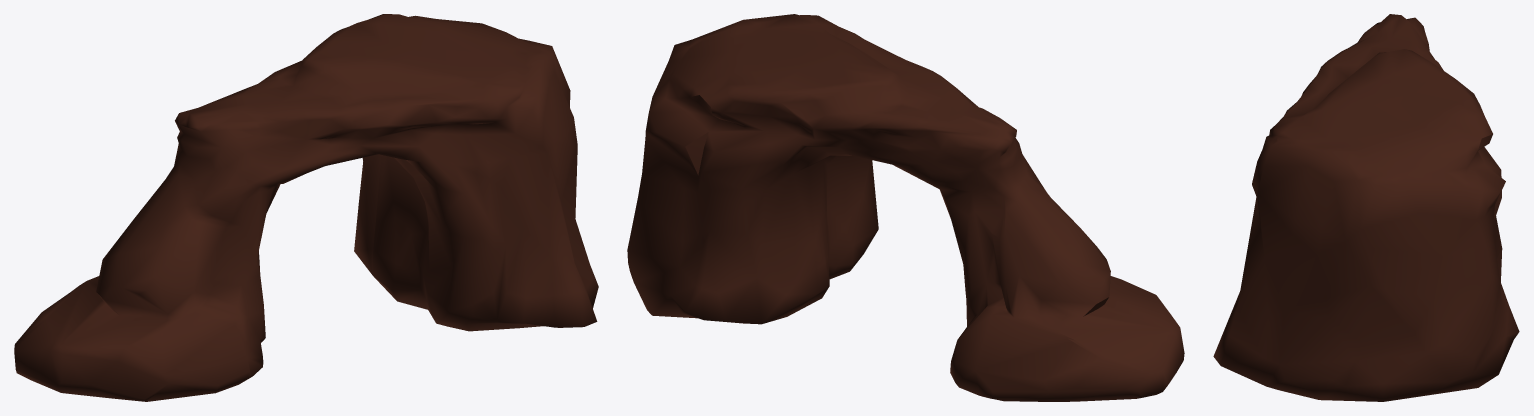
File: sc_FeiTu_mesh_shan1.FBX
3 renders of one model, left to right at view 1: azimuth 30°, elevation 25°; view 2: azimuth 150°, elevation 25°; view 3: azimuth 270°, elevation 25°, orthographic. The views are drawn at different scales.
Parts seen in each view (by area): view 1: mesh_shan1; view 2: mesh_shan1; view 3: mesh_shan1.
Boxes of the visible parts, x1,y1,x2,y2 form: mesh_shan1: (14,14,598,401); mesh_shan1: (627,14,1184,401); mesh_shan1: (1213,14,1519,401).
Size of the model in its own units: 2824 by 1296 by 1457.
